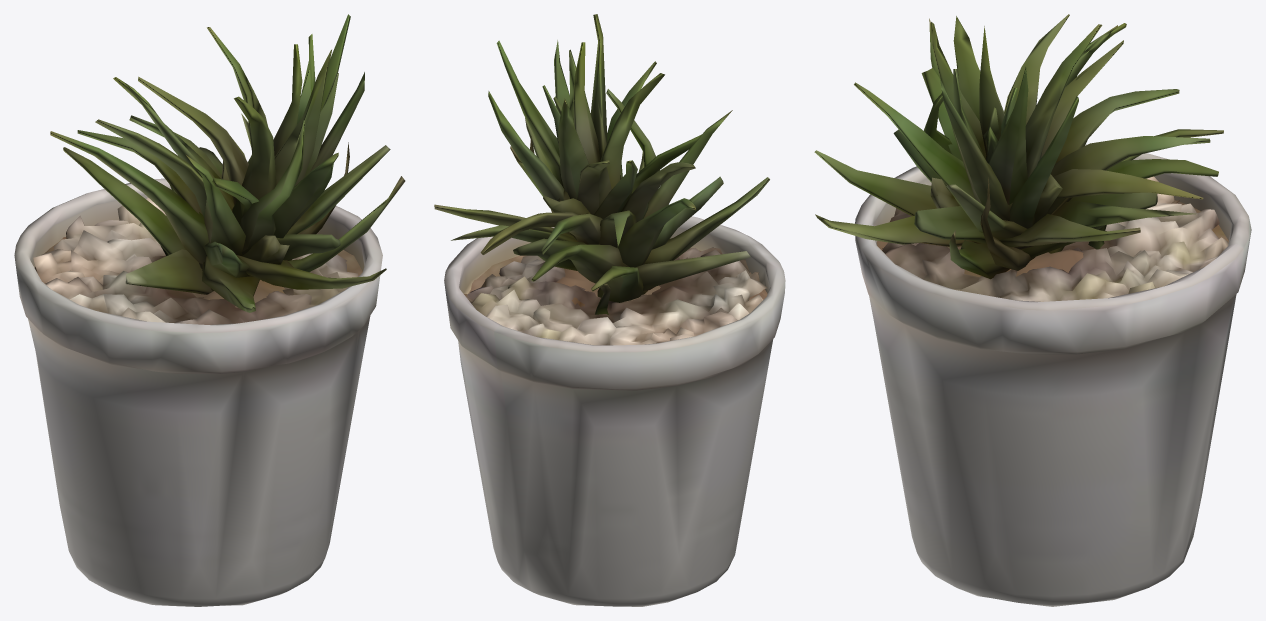
Rendered from succulent.mobile.glb.
3 views of the same model, side by side, from view 1: azimuth 30°, elevation 25°; view 2: azimuth 150°, elevation 25°; view 3: azimuth 270°, elevation 25° (orthographic). The views are drawn at different scales.
Visible parts, largest first — view 1: potted_plant_04_ground; view 2: potted_plant_04_ground; view 3: potted_plant_04_ground.
Part boxes in pixels (<box>): potted_plant_04_ground: <box>14,14,405,606</box>; potted_plant_04_ground: <box>434,14,785,606</box>; potted_plant_04_ground: <box>814,14,1251,606</box>.
Size of the model in its own units: 0.1672 by 0.2672 by 0.1845.
1 material, 1 textured.
